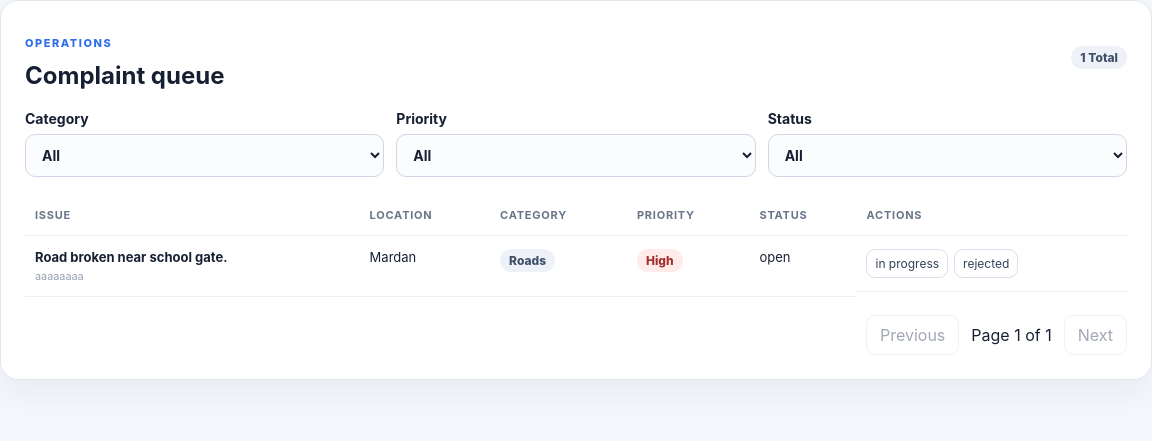
Test case: surfaces backend transition error verbatim
The width and height of the screenshot is (1152, 441).
Click the button "in progress".
click(907, 264)  # box [866, 249, 948, 278]
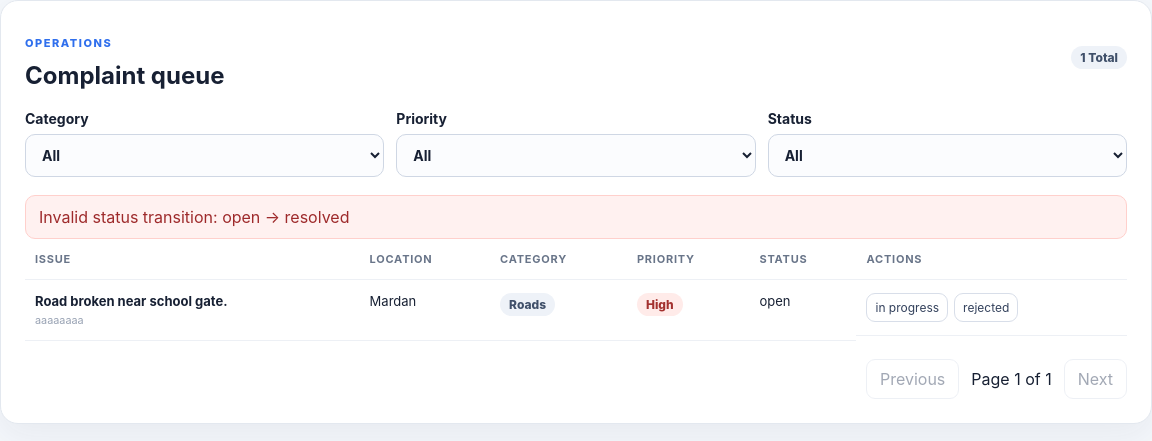
Result: the message reads "Invalid status transition: open -> resolved" at [39, 207, 350, 227]
